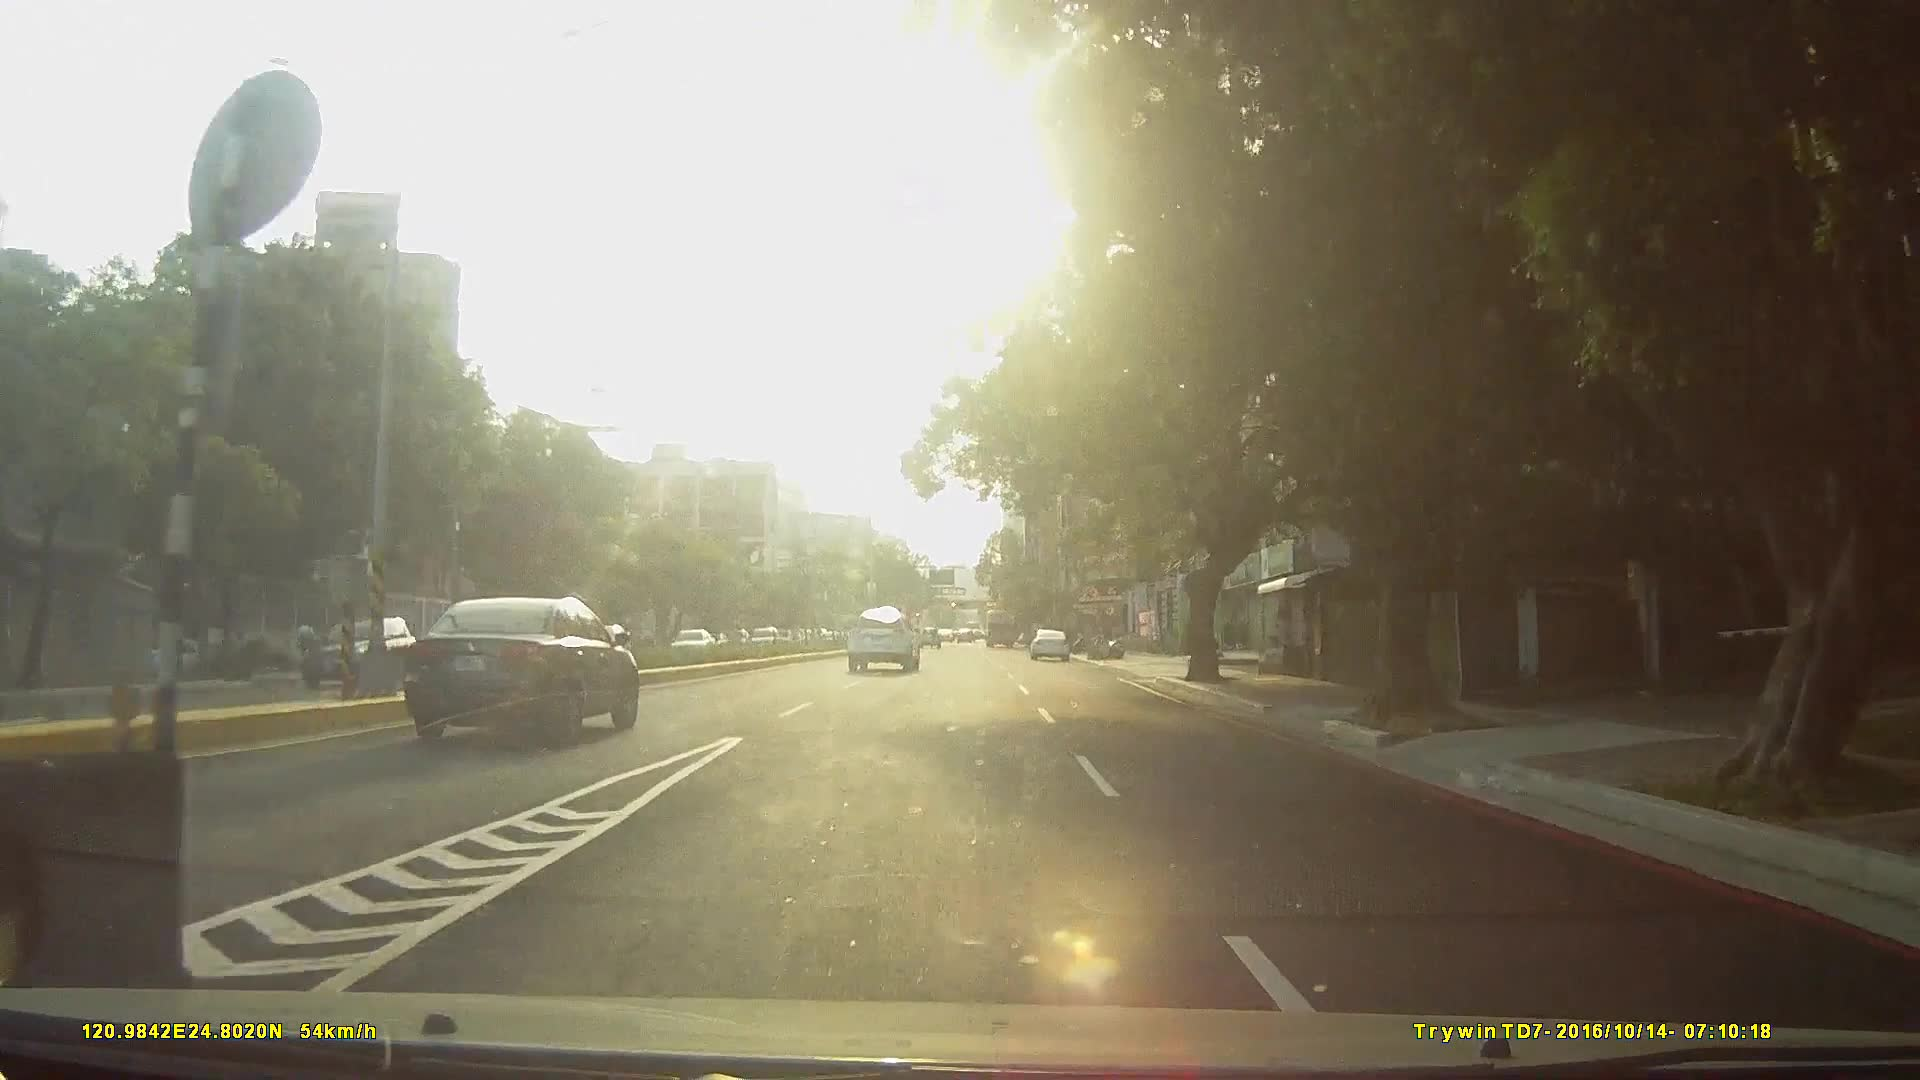pedestrian: (293, 623, 318, 676)
vehicle: (406, 590, 643, 741), (282, 616, 426, 693), (843, 604, 921, 671), (1027, 624, 1070, 662), (982, 605, 1018, 648)
